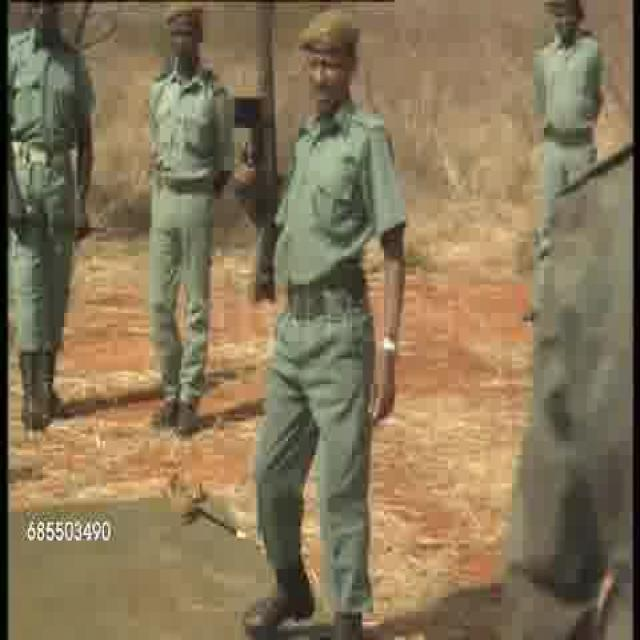poacher: (246, 3, 444, 620), (1, 2, 108, 444), (142, 2, 230, 444), (522, 1, 622, 198)
weapon: (240, 2, 279, 294)
